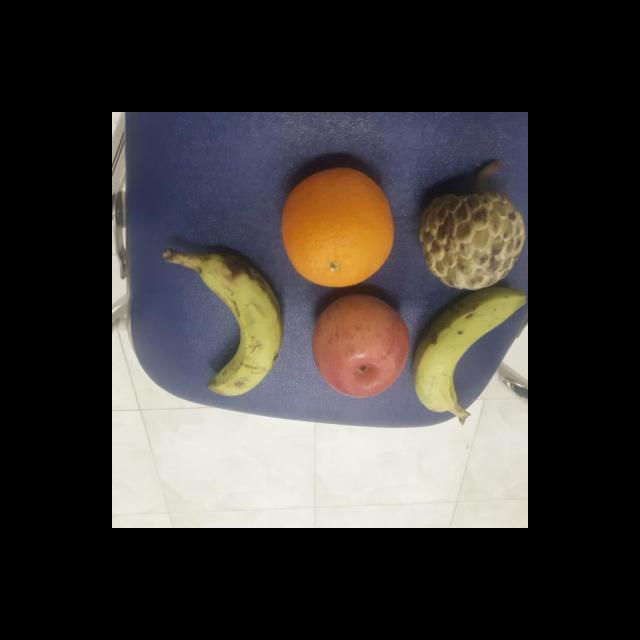Sakya fruit: (418, 188, 528, 292)
apple: (308, 292, 411, 400)
banana: (411, 284, 528, 416), (200, 252, 286, 400)
orange: (281, 164, 394, 288)
